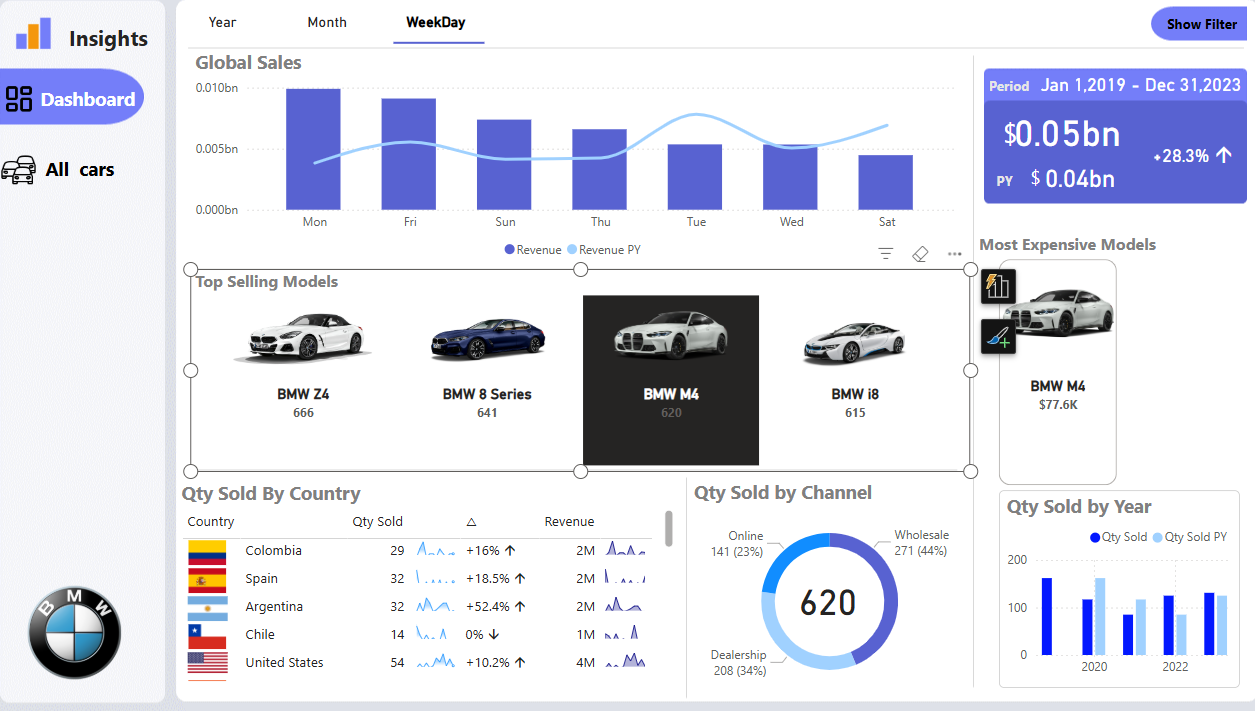

Layout of this report page (visuals, bound fields, positions):
{"tool":"powerbi","page":{"name":"BMW Dashboard","canvas":[1280,720],"ordinal":0},"visuals":[{"type":"advancedSlicerVisual","fields":{"Values":["PeriodSlicer.PeriodSlicer"]},"box":[201.1,0,300.8,55.2],"z":0},{"type":"textbox","box":[75.3,23.8,98.3,40],"z":0,"group":"g2"},{"type":"image","box":[10.3,13.8,68.3,48.3],"z":1000,"group":"g2"},{"type":"lineClusteredColumnComboChart","title":" Global Sales","fields":{"Category":["Calendar.Year"],"Y":["All Measures.Revenue"],"Y2":["All Measures.Revenue PY"]},"box":[201.1,55.2,768.9,218.9],"z":1000},{"type":"card","fields":{"Values":["All Measures.Revenue"]},"box":[1007.5,110,142.5,52.5],"z":2000,"group":"g3"},{"type":"card","fields":{"Values":["All Measures.Revenue PY"]},"box":[1030,156.2,122.5,55],"z":3000,"group":"g4"},{"type":"textbox","box":[1002,172.6,53.4,39.2],"z":4000,"group":"g4"},{"type":"card","fields":{"Values":["All Measures.Revenue Variance % Arrow"]},"box":[1135,135.4,133,55.1],"z":5000},{"type":"card","fields":{"Values":["All Measures.Selected Period"]},"box":[1037.6,64.1,229.6,55.2],"z":6000},{"type":"textbox","box":[994.9,77,60.5,44.5],"z":7000},{"type":"advancedSlicerVisual","title":"Top Selling Models","fields":{"Values":["dimModel.Model"]},"box":[201.3,274.5,780.2,202.5],"z":8000},{"type":"advancedSlicerVisual","title":"Most Expensive Models","fields":{"Values":["dimModel.Model"]},"box":[985.2,238.5,294.8,257.7],"z":9000},{"type":"clusteredColumnChart","title":"Qty Sold by Year","fields":{"Y":["All Measures.Qty Sold","All Measures.Qty Sold PY"],"Category":["Calendar.Year"]},"box":[1010.3,496.2,240.9,197.8],"z":10000},{"type":"donutChart","fields":{"Y":["All Measures.Qty Sold"],"Category":["dimChannel.Channel"]},"box":[699.9,485.4,281.6,220.5],"z":11000},{"type":"card","fields":{"Values":["All Measures.Qty Sold"]},"box":[783.8,575.3,110.3,59.9],"z":12000},{"type":"tableEx","title":"Qty Sold By Country","fields":{"Values":["dimCountry.Flag","dimCountry.Country","All Measures.Qty Sold","All Measures.Qty Sold Sparkline","All Measures.Qty Sold Variance % Arrow","All Measures.Revenue","All Measures.Revenue Sparkline"]},"box":[187,486.6,501.7,206.1],"z":13000},{"type":"textbox","box":[45.7,87.1,115.7,35.7],"z":14000},{"type":"image","box":[10,82.9,40,44.3],"z":15000},{"type":"image","box":[7.1,147.1,44.3,57.1],"z":16000},{"type":"textbox","box":[51.4,157.1,121.4,44.3],"z":17000},{"type":"actionButton","box":[6.2,153.8,172.5,45],"z":18000},{"type":"group","id":"g1","title":"Filter Pane","box":[905.7,12.5,353.3,471.7],"z":19000},{"type":"image","box":[34,584.1,103.2,108.9],"z":20000},{"type":"actionButton","box":[1167.5,12.5,91.4,34.3],"z":20001,"group":"g1"},{"type":"group","id":"g2","title":"Group 1","box":[10.3,13.8,163.3,50],"z":20001},{"type":"textbox","box":[1008.7,115,50,46.2],"z":20002,"group":"g3"},{"type":"textbox","box":[1036.2,165,42.5,38.8],"z":20003,"group":"g4"},{"type":"group","id":"g3","title":"Group 2","box":[1007.5,110,142.5,52.5],"z":20004},{"type":"group","id":"g4","title":"Group 3","box":[1002,156.2,150.5,55.5],"z":20005}]}

Visuals, with their boxes on the page's 1280x720 design canvas (x1, y1, x2, y2). These are canvas units, not pixel positions in the 1255x711 screenshot, which may show the page scaled, cropped or inside an application window:
advancedSlicerVisual - PeriodSlicer.PeriodSlicer: l=201, t=0, r=502, b=55
textbox: l=75, t=24, r=174, b=64
image: l=10, t=14, r=79, b=62
" Global Sales" lineClusteredColumnComboChart: l=201, t=55, r=970, b=274
card - All Measures.Revenue: l=1008, t=110, r=1150, b=162
card - All Measures.Revenue PY: l=1030, t=156, r=1152, b=211
textbox: l=1002, t=173, r=1055, b=212
card - All Measures.Revenue Variance % Arrow: l=1135, t=135, r=1268, b=190
card - All Measures.Selected Period: l=1038, t=64, r=1267, b=119
textbox: l=995, t=77, r=1055, b=122
"Top Selling Models" advancedSlicerVisual: l=201, t=274, r=982, b=477
"Most Expensive Models" advancedSlicerVisual: l=985, t=238, r=1280, b=496
"Qty Sold by Year" clusteredColumnChart: l=1010, t=496, r=1251, b=694
donutChart - All Measures.Qty Sold x dimChannel.Channel: l=700, t=485, r=982, b=706
card - All Measures.Qty Sold: l=784, t=575, r=894, b=635
"Qty Sold By Country" tableEx: l=187, t=487, r=689, b=693
textbox: l=46, t=87, r=161, b=123
image: l=10, t=83, r=50, b=127
image: l=7, t=147, r=51, b=204
textbox: l=51, t=157, r=173, b=201
actionButton: l=6, t=154, r=179, b=199
"Filter Pane" group: l=906, t=12, r=1259, b=484
image: l=34, t=584, r=137, b=693
actionButton: l=1168, t=12, r=1259, b=47
"Group 1" group: l=10, t=14, r=174, b=64
textbox: l=1009, t=115, r=1059, b=161
textbox: l=1036, t=165, r=1079, b=204
"Group 2" group: l=1008, t=110, r=1150, b=162
"Group 3" group: l=1002, t=156, r=1152, b=212
